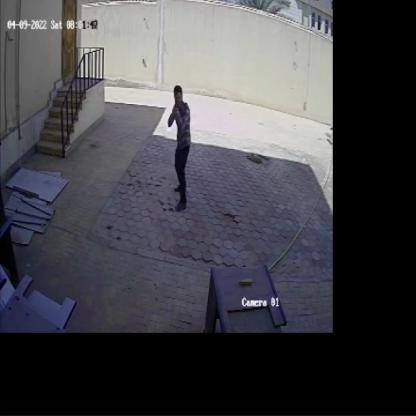handgun: (169, 97, 186, 120)
